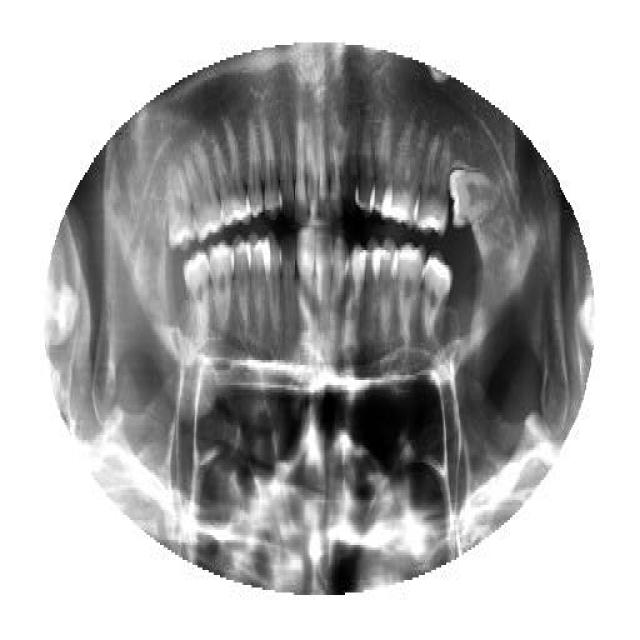Impacted Tooth: (448, 165, 502, 230)
